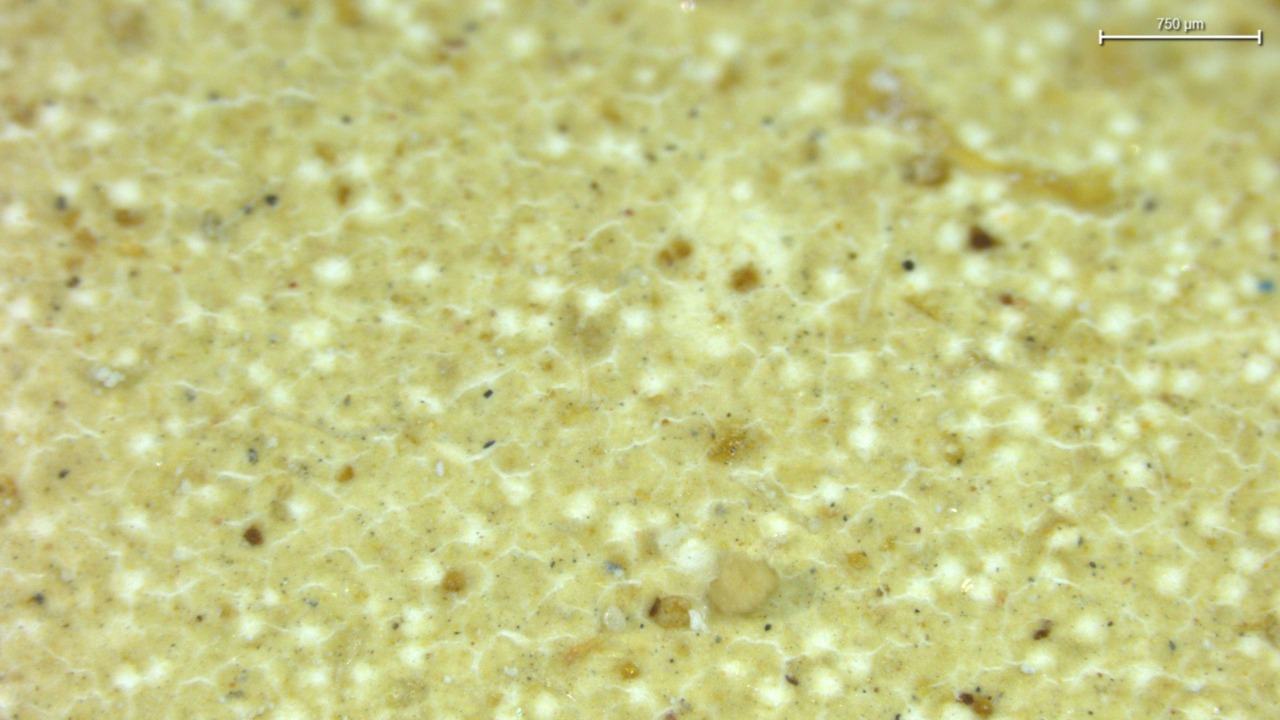microplastic_fragment: (709, 553, 781, 618)
